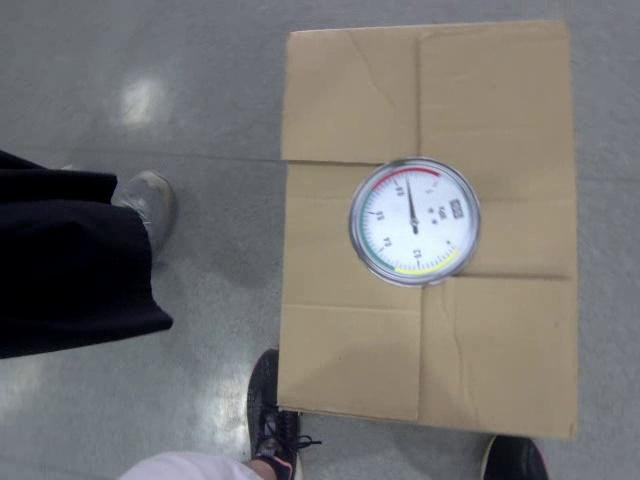Dashboard: (346, 156, 483, 286)
ssi: (447, 198, 463, 220)
